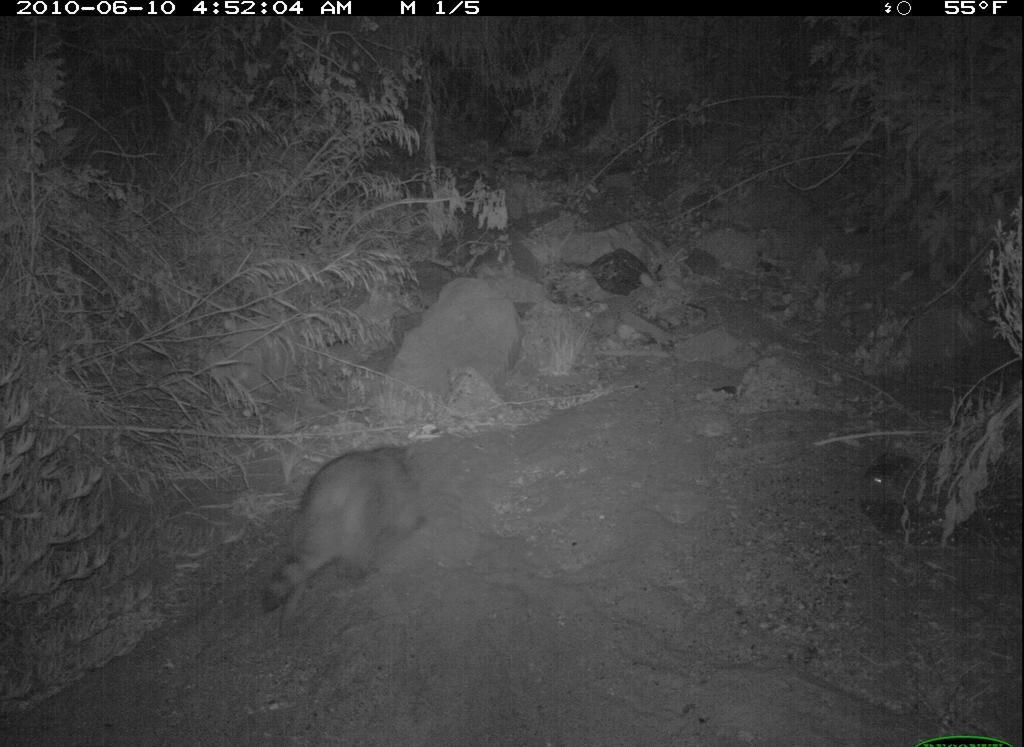raccoon: (249, 440, 438, 625)
